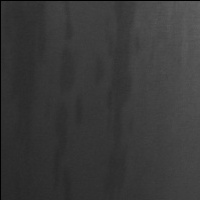inclusion: (100, 2, 137, 200), (2, 2, 39, 153), (51, 40, 78, 200), (58, 1, 77, 44)
